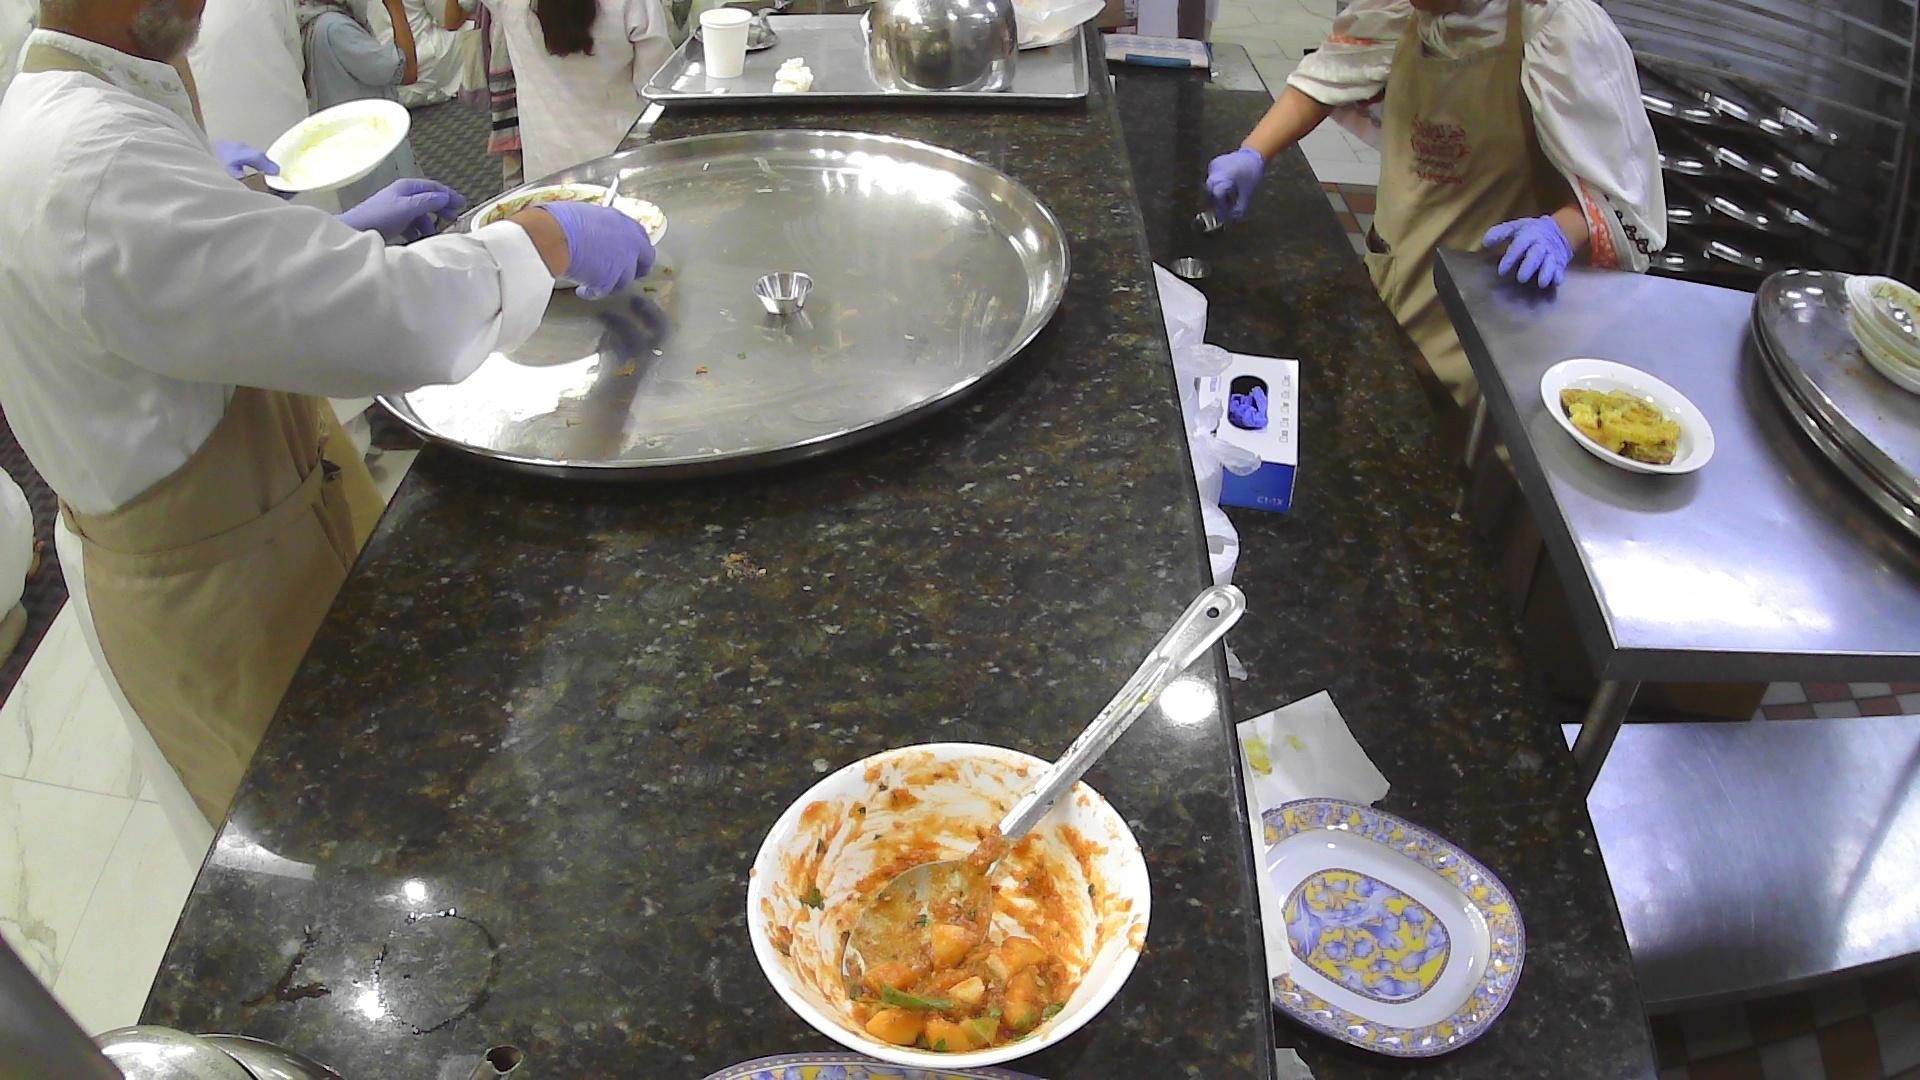thaal: (368, 127, 1069, 489), (1750, 264, 1920, 551)
